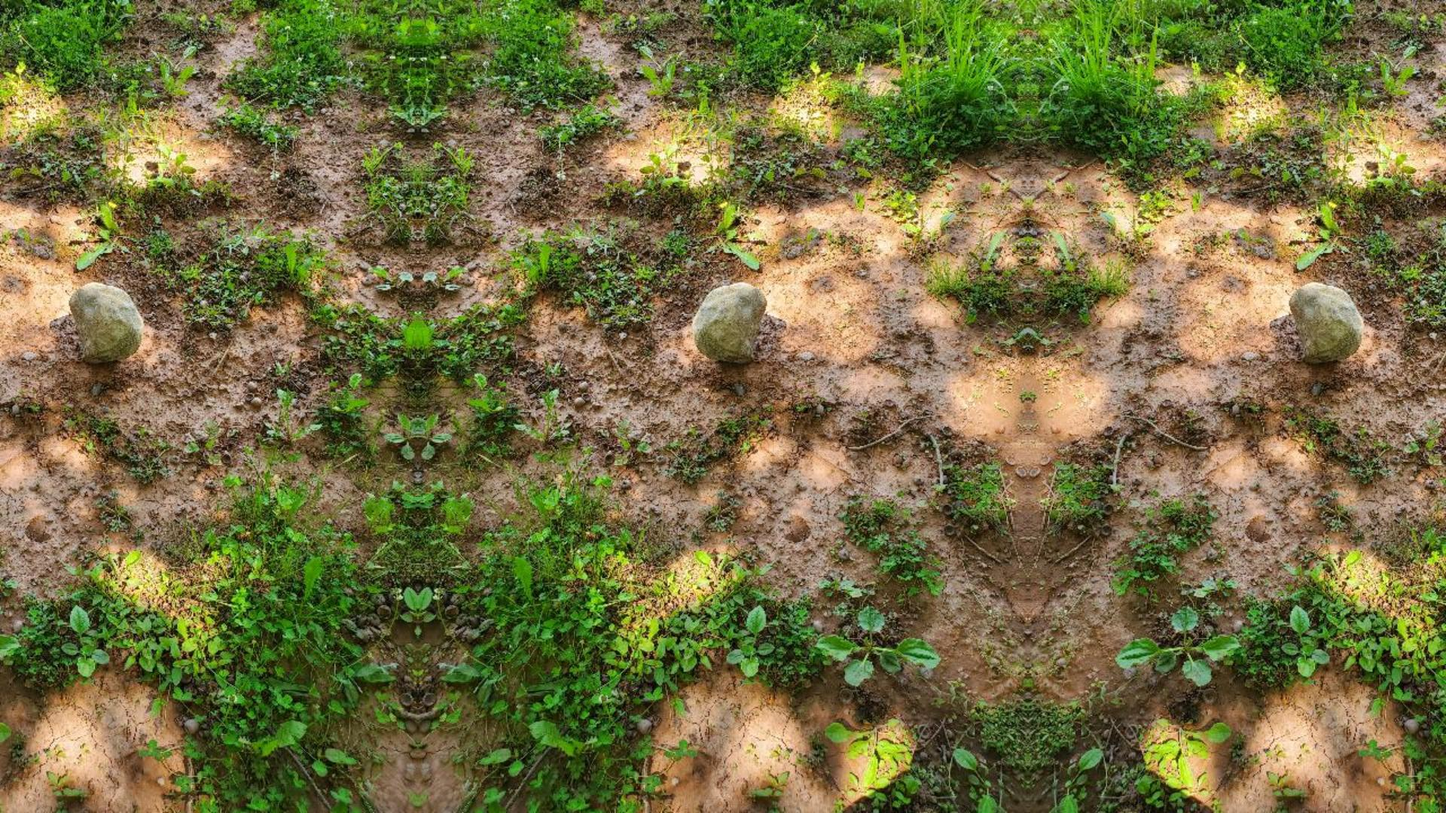rock: (692, 282, 765, 362), (69, 282, 142, 362), (1289, 283, 1361, 362)
